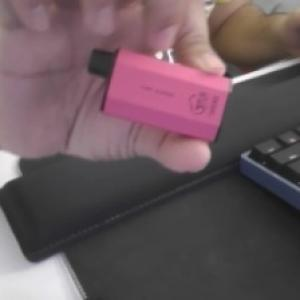Blume-E-Ciggirate: (85, 40, 235, 145)
